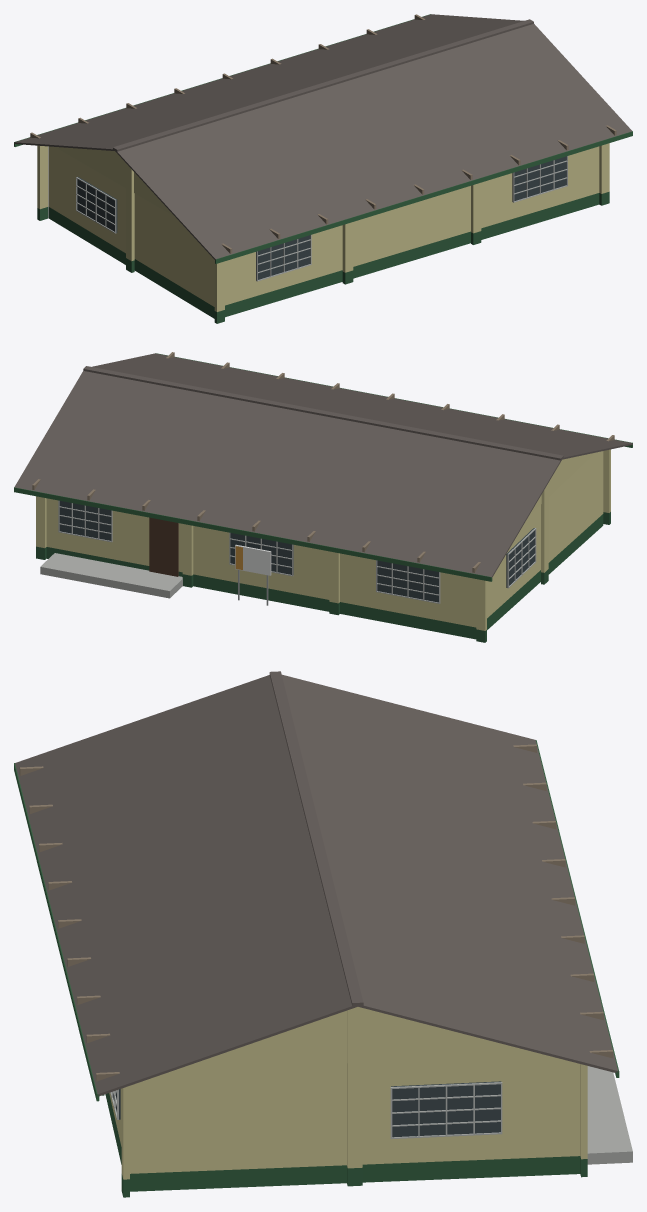
File: rares_mushroom_laboratory.glb
3 renders of one model, top to bottom at view 1: azimuth 30°, elevation 25°; view 2: azimuth 150°, elevation 25°; view 3: azimuth 270°, elevation 25°, orthographic. The views are drawn at different scales.
Parts seen in each view (by area): view 1: Roof_Slope_S, Wall_Upper, Roof_Slope_N, Wall_Dado, Roof_Ridge, Fascia_S, Gable_Walls, South_Win_E_Glass, South_Win_W_Glass, West_Win_N_Glass, Pilaster_W_U, Pilaster_N_U_0 (+4 smaller); view 2: Roof_Slope_N, Wall_Upper, Roof_Slope_S, Wall_Dado, Front_Stoop, Roof_Ridge, Fascia_N, Front_Win_W_Glass, Front_Door_Frame, Front_Win_E_Glass, Front_Win_C_Glass, West_Win_N_Glass (+9 smaller); view 3: Roof_Slope_S, Roof_Slope_N, Wall_Upper, Gable_Walls, Wall_Dado, East_Win_N_Glass, Roof_Ridge, Front_Stoop, Pilaster_E_U, Fascia_S, Pilaster_S_U_3, Pilaster_N_U_3.
Part boxes in pixels (<box>): Roof_Slope_S: <box>115,24,632,260</box>; Wall_Upper: <box>48,146,599,306</box>; Roof_Slope_N: <box>14,14,524,150</box>; Wall_Dado: <box>48,193,599,318</box>; Roof_Ridge: <box>113,19,533,151</box>; Fascia_S: <box>215,131,632,263</box>; Gable_Walls: <box>55,147,174,216</box>; South_Win_E_Glass: <box>512,156,566,201</box>; South_Win_W_Glass: <box>256,235,310,280</box>; West_Win_N_Glass: <box>77,177,117,232</box>; Pilaster_W_U: <box>126,163,134,261</box>; Pilaster_N_U_0: <box>37,145,47,209</box>; Roof_Slope_N: <box>14,371,562,577</box>; Wall_Upper: <box>46,451,603,627</box>; Roof_Slope_S: <box>92,353,632,459</box>; Wall_Dado: <box>46,514,603,639</box>; Front_Stoop: <box>40,553,182,598</box>; Roof_Ridge: <box>83,366,563,460</box>; Fascia_N: <box>14,487,492,581</box>; Front_Win_W_Glass: <box>377,560,438,602</box>; Front_Door_Frame: <box>149,517,178,576</box>; Front_Win_E_Glass: <box>59,501,111,540</box>; Front_Win_C_Glass: <box>230,533,293,574</box>; West_Win_N_Glass: <box>506,528,534,587</box>; Roof_Slope_S: <box>15,675,357,1096</box>; Roof_Slope_N: <box>282,674,618,1072</box>; Wall_Upper: <box>109,1054,580,1173</box>; Gable_Walls: <box>172,1008,542,1071</box>; Wall_Dado: <box>105,1093,580,1191</box>; East_Win_N_Glass: <box>391,1081,501,1137</box>; Roof_Ridge: <box>269,671,363,1005</box>; Front_Stoop: <box>587,1066,632,1164</box>; Pilaster_E_U: <box>347,1007,362,1168</box>; Fascia_S: <box>14,763,99,1101</box>; Pilaster_S_U_3: <box>121,1086,129,1179</box>; Pilaster_N_U_3: <box>580,1064,587,1159</box>.
Size of the model in its own units: 17.79 by 4.54 by 13.12.
